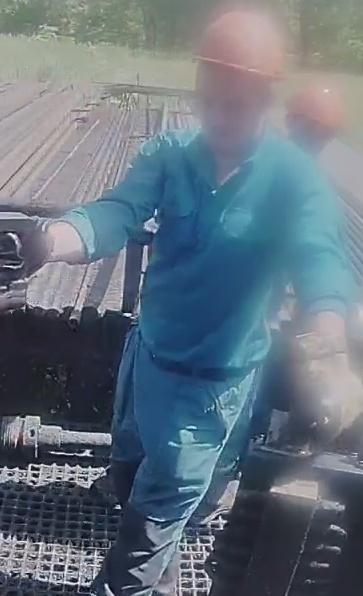gloves: (277, 323, 362, 447)
helmet: (191, 9, 288, 82), (286, 81, 349, 135)
vest: (130, 131, 354, 366)
